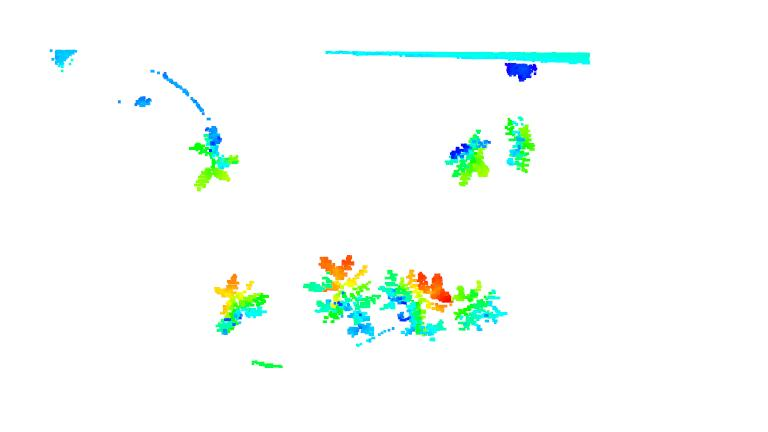chickpea: (303, 253, 375, 340), (376, 268, 451, 340), (212, 273, 267, 339), (187, 126, 239, 189), (448, 283, 508, 333), (447, 127, 492, 187), (503, 115, 537, 174)
